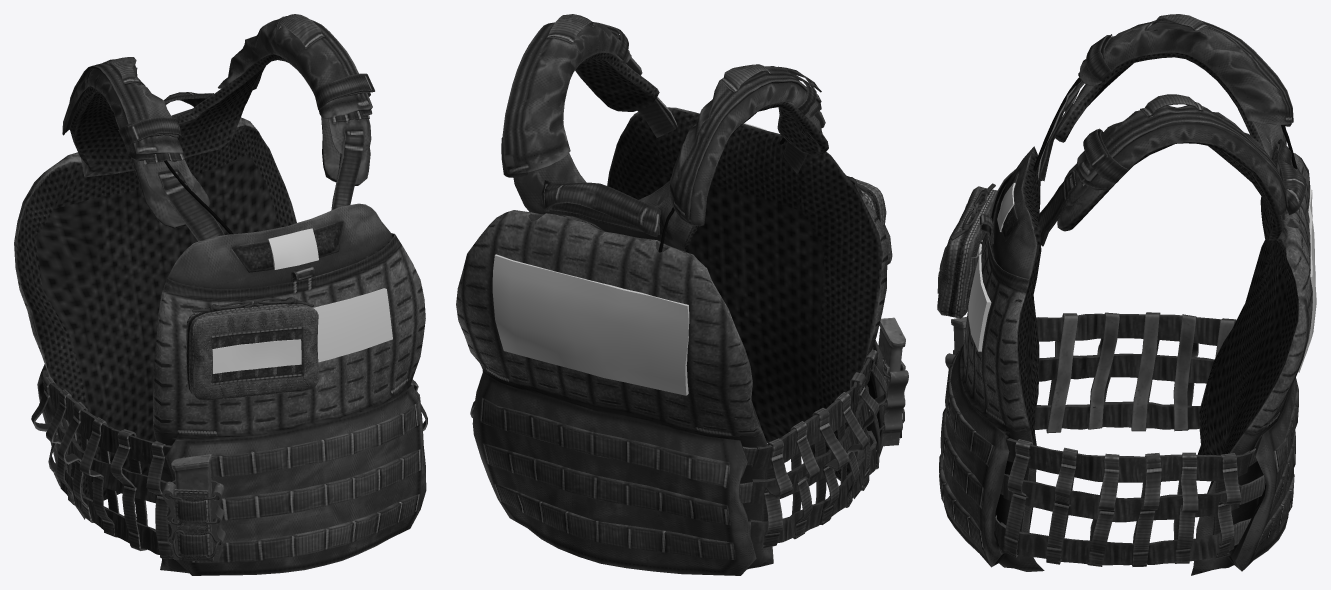
The model's file is BallisticVest.fbx.
The picture shows the model from 3 angles, left to right: view 1: azimuth 30°, elevation 25°; view 2: azimuth 150°, elevation 25°; view 3: azimuth 270°, elevation 25°; orthographic projection. The views are drawn at different scales.
Parts seen in each view (by area): view 1: BallisticVest; view 2: BallisticVest; view 3: BallisticVest.
Boxes of the visible parts, x1,y1,x2,y2 form: BallisticVest: [14, 14, 427, 575]; BallisticVest: [456, 14, 908, 575]; BallisticVest: [937, 14, 1316, 575].
Size of the model in its own units: 0.3843 by 0.5232 by 0.3799.
